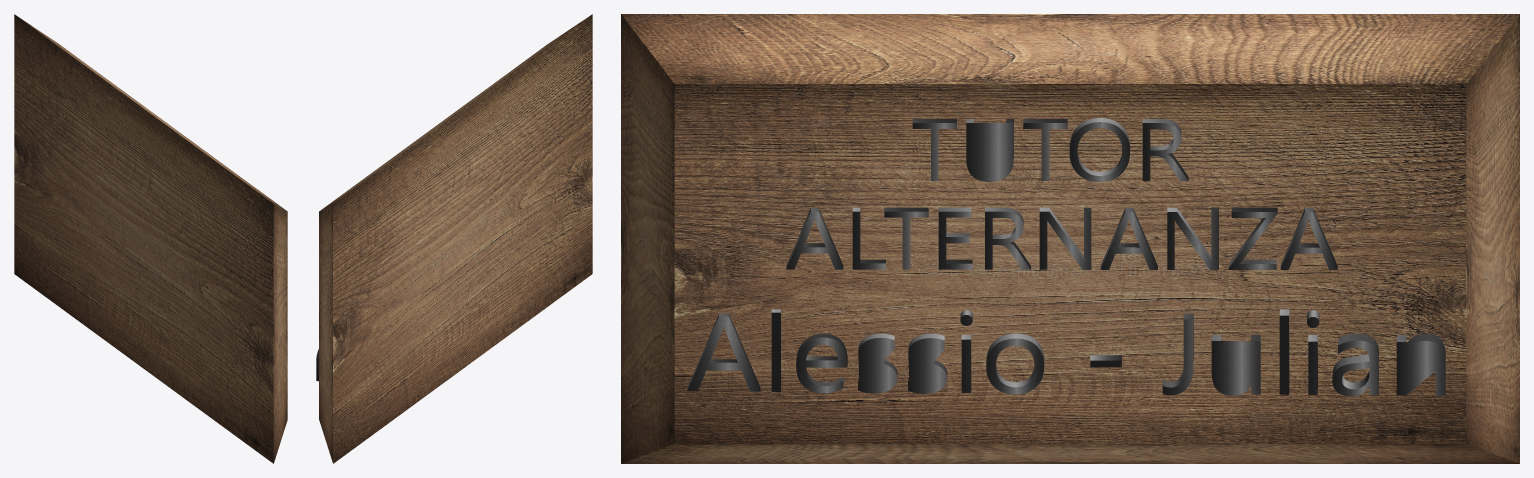
Rendered from targhetta tutor alternanza.fbx.
3 renders of one model, left to right at view 1: azimuth 30°, elevation 25°; view 2: azimuth 150°, elevation 25°; view 3: azimuth 270°, elevation 25°, orthographic. The views are drawn at different scales.
Parts seen in each view (by area): view 1: Cube; view 2: Cube; view 3: Cube, Tappo_1_16, Tappo_1_10, Tappo_1_14, Tappo_1, Tappo_1_4, Tappo_1_5, Tappo_1_3, Tappo_1_25, Tappo_1_13, Tappo_1_7, Tappo_1_27 (+9 smaller).
Boxes of the visible parts, box(x1,y1,x2,y2) form: Cube: box(14, 14, 287, 463); Cube: box(319, 14, 592, 463); Cube: box(621, 14, 1519, 463); Tappo_1_16: box(966, 123, 1013, 181); Tappo_1_10: box(1211, 341, 1260, 395); Tappo_1_14: box(1396, 341, 1445, 395); Tappo_1: box(687, 316, 760, 391); Tappo_1_4: box(858, 337, 897, 393); Tappo_1_5: box(908, 338, 947, 393); Tappo_1_3: box(796, 337, 847, 393); Tappo_1_25: box(1039, 211, 1091, 269); Tappo_1_13: box(1332, 340, 1378, 396); Tappo_1_7: box(986, 338, 1044, 394); Tappo_1_27: box(1167, 212, 1218, 269).
Bounding box in the file's own units: 13.2 × 85.57 × 155.
2 materials, 2 textured.
